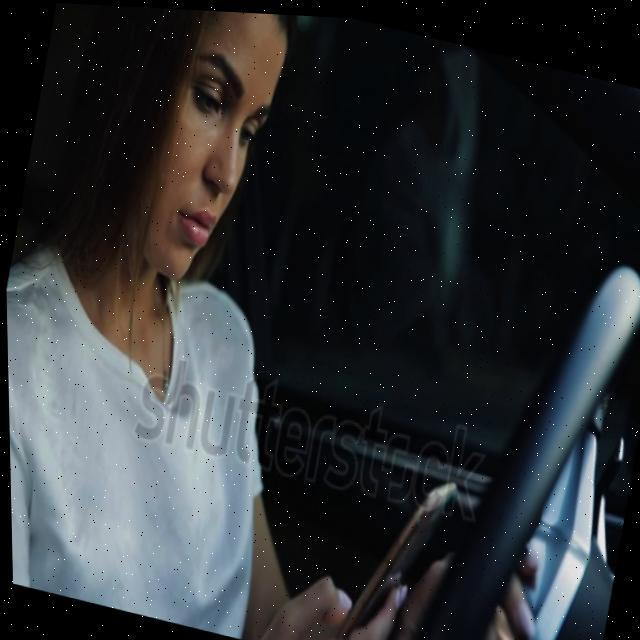PhoneCall: (330, 455, 461, 640)
